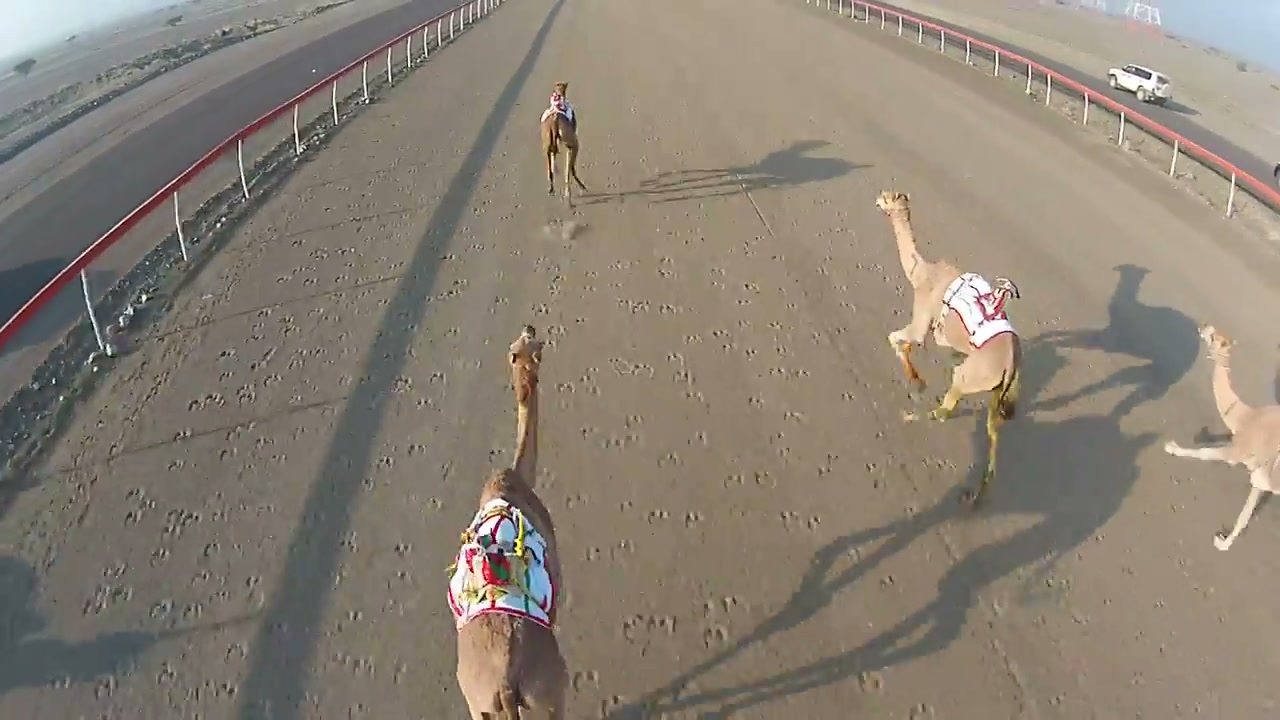animal_footprint: (44, 226, 504, 698), (591, 175, 920, 719)
